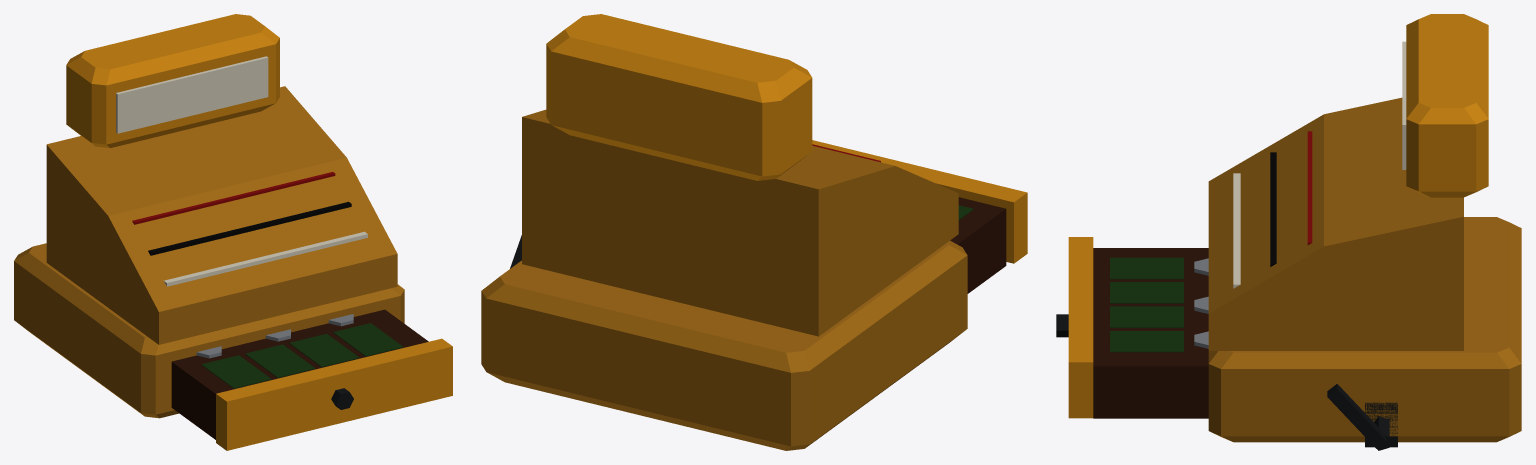
File: SM_Prop_CashRegister_Retro_Open.glb
3 renders of one model, left to right at view 1: azimuth 30°, elevation 25°; view 2: azimuth 150°, elevation 25°; view 3: azimuth 270°, elevation 25°, orthographic. The views are drawn at different scales.
Parts seen in each view (by area): view 1: SM_Prop_CashRegister_Retro_Open; view 2: SM_Prop_CashRegister_Retro_Open; view 3: SM_Prop_CashRegister_Retro_Open.
Boxes of the visible parts, <box> form: SM_Prop_CashRegister_Retro_Open: <box>14,14,452,450</box>; SM_Prop_CashRegister_Retro_Open: <box>481,14,1027,450</box>; SM_Prop_CashRegister_Retro_Open: <box>1056,14,1521,450</box>.
Size of the model in its own units: 0.478 by 0.42 by 0.565.
Materials: 1 (1 with a texture image).
